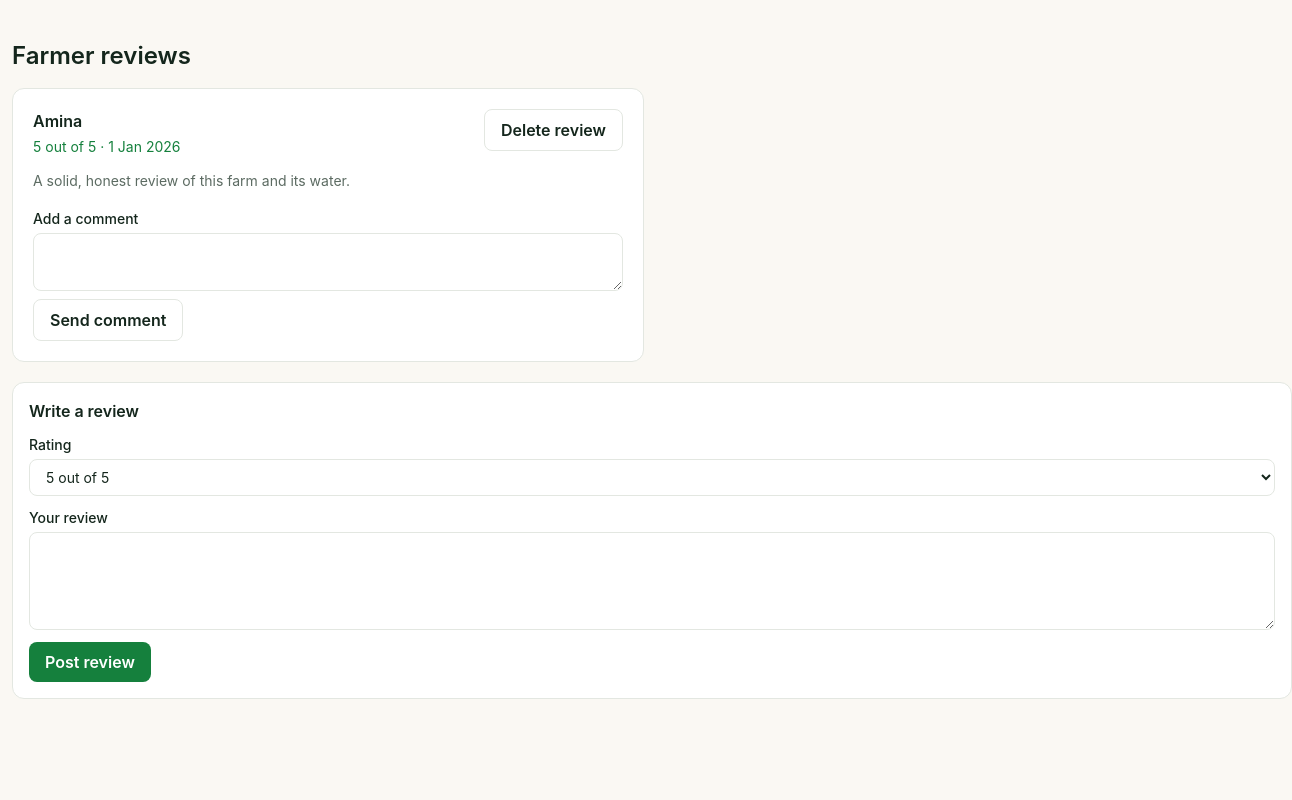
Scenario: ReviewSection › deletes and restores a review
Expected: the text "A solid, honest review of this farm and its water." is shown, x1=33 y1=172 x2=350 y2=189
Click the button "Delete review" at x=554, y=130, box x1=484 y1=109 x2=623 y2=151
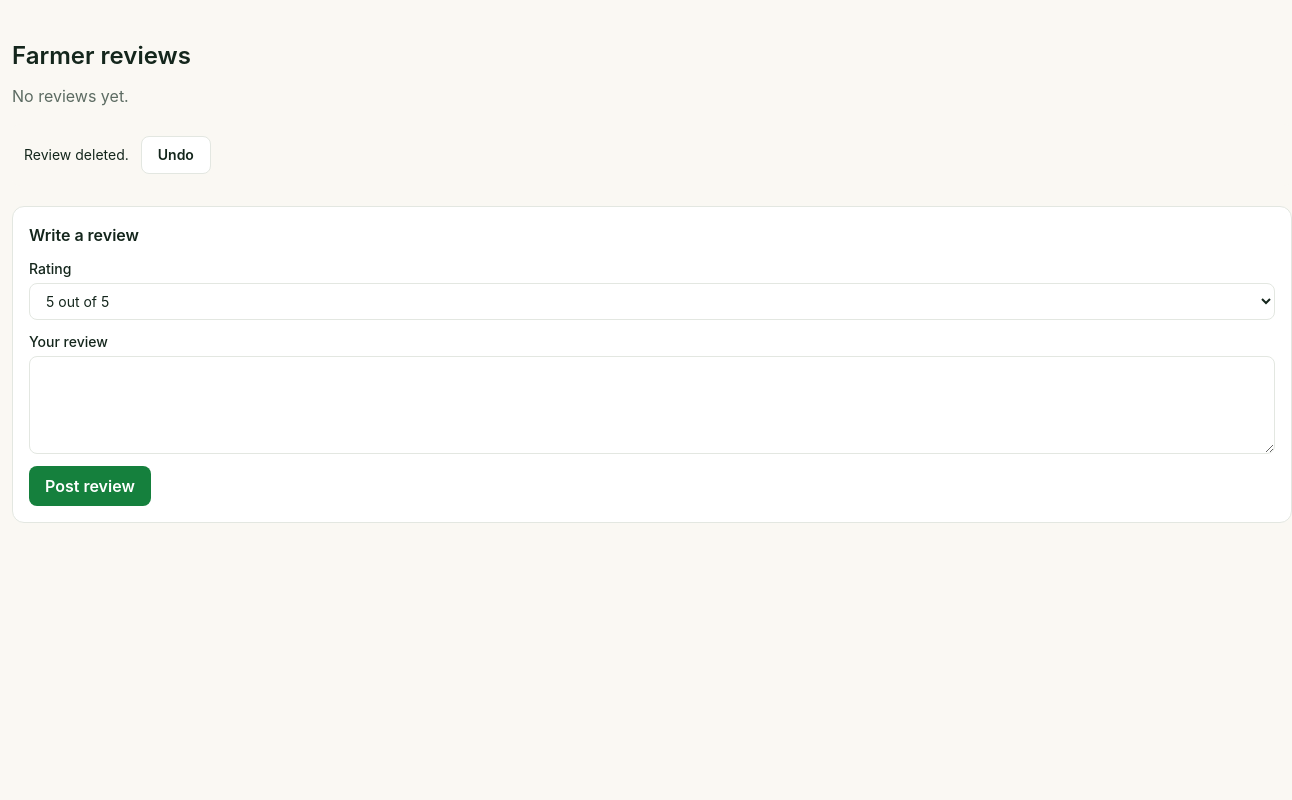
Expected: the text "A solid, honest review of this farm and its water." is gone
Click the button "Undo" at x=176, y=155, box x1=141 y1=136 x2=211 y2=174
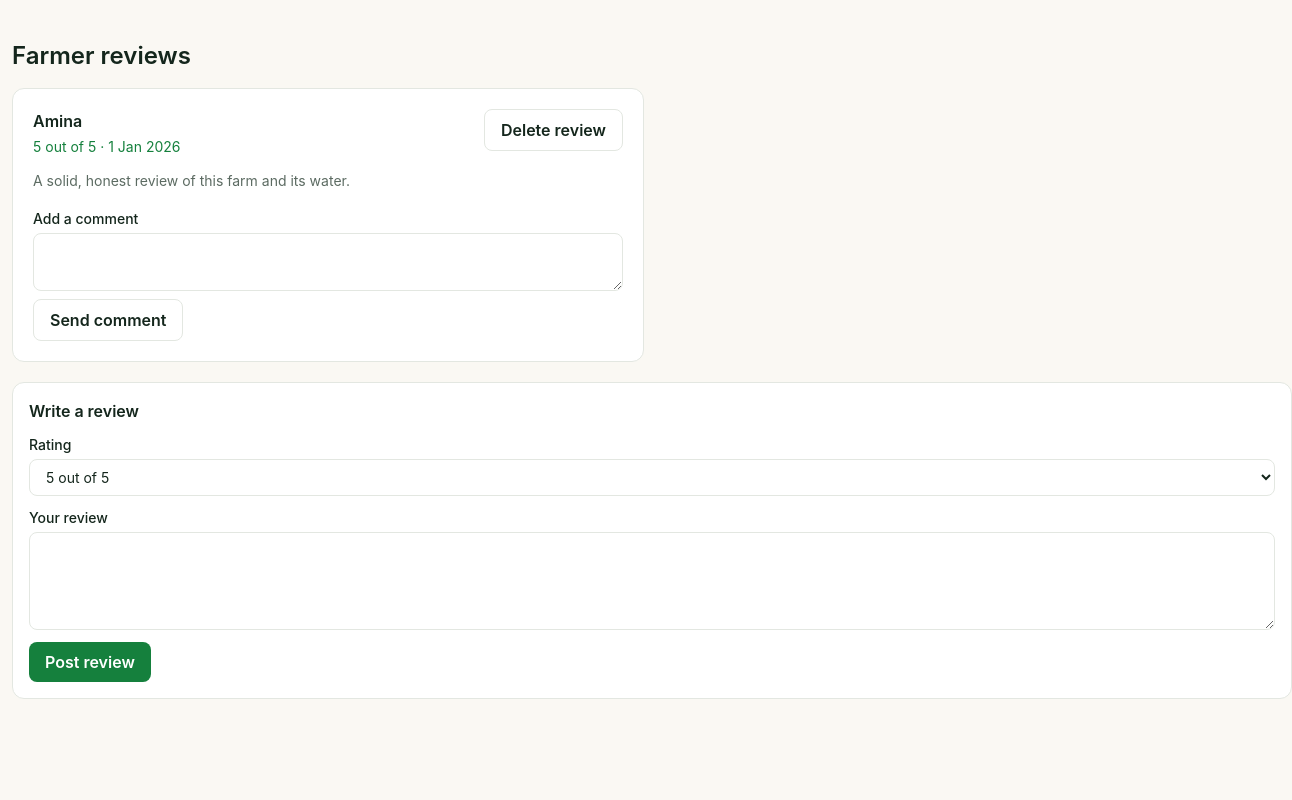
Expected: the text "A solid, honest review of this farm and its water." is shown, x1=33 y1=172 x2=350 y2=189
